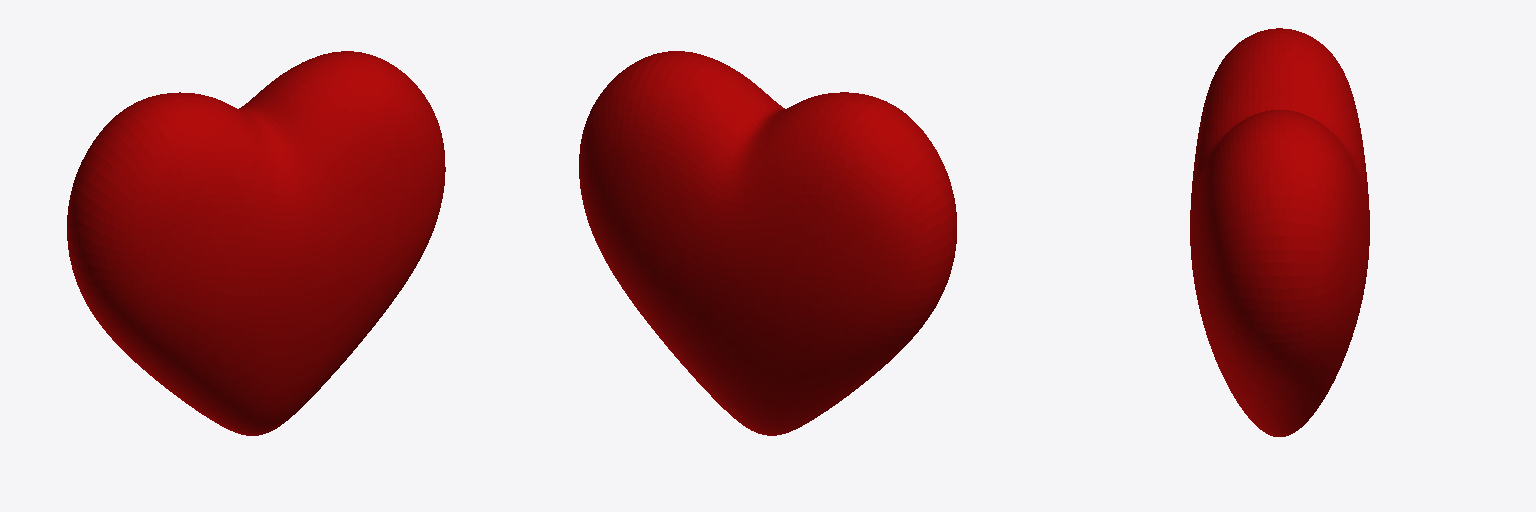
Rendered from Heart.obj.
3 views of the same model, side by side, from view 1: azimuth 30°, elevation 25°; view 2: azimuth 150°, elevation 25°; view 3: azimuth 270°, elevation 25° (orthographic).
Visible parts, largest first — view 1: Heart; view 2: Heart; view 3: Heart.
Part boxes in pixels (bbox=[...]): Heart: bbox=[67, 51, 445, 435]; Heart: bbox=[579, 51, 956, 435]; Heart: bbox=[1190, 28, 1369, 436].
Size of the model in its own units: 21.25 by 19.91 by 9.14.